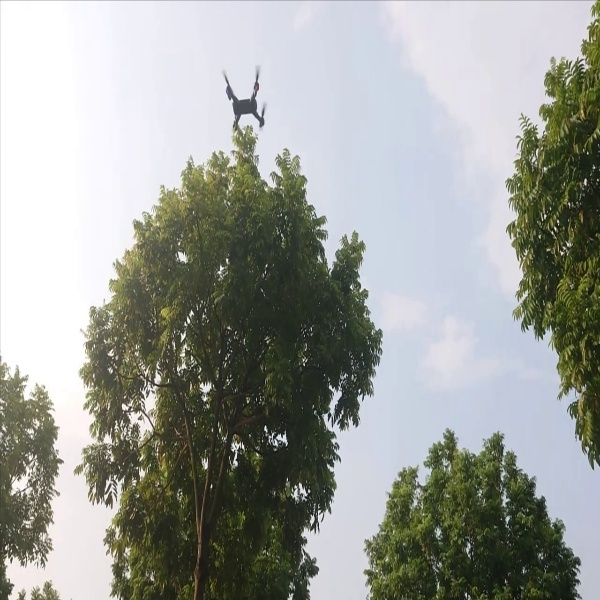drone: (210, 64, 278, 132)
